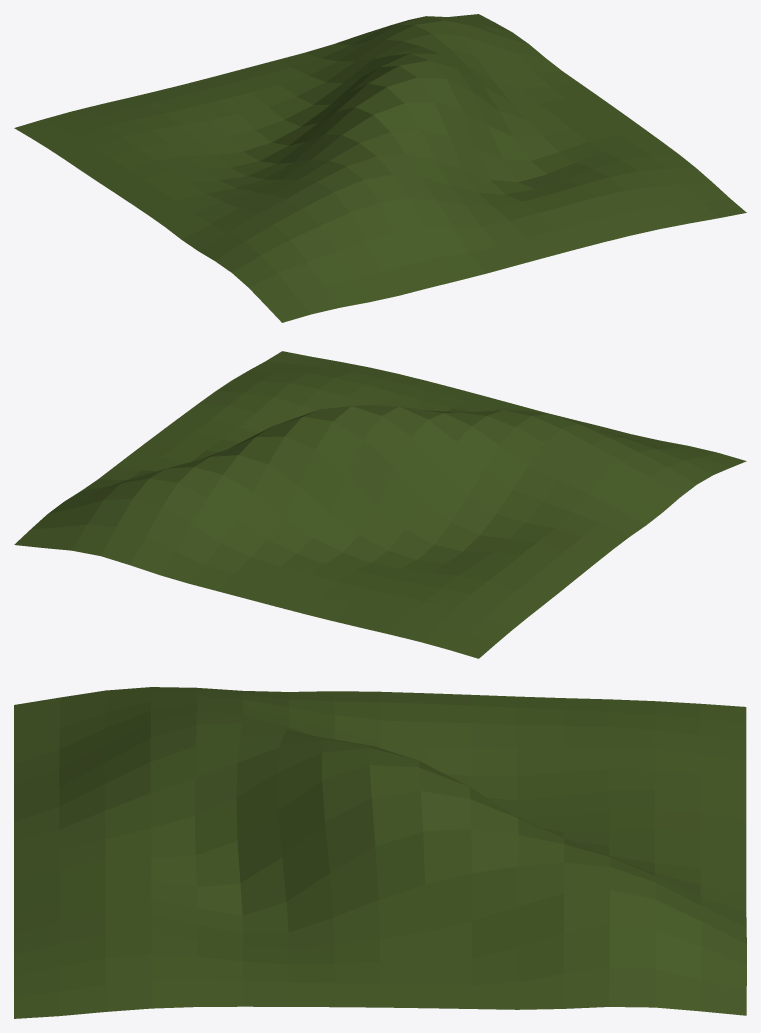
Rendered from Mountain_3.fbx.
3 views of the same model, one above another, from view 1: azimuth 30°, elevation 25°; view 2: azimuth 150°, elevation 25°; view 3: azimuth 270°, elevation 25° (orthographic). The views are drawn at different scales.
Visible parts, largest first — view 1: Mountain_3; view 2: Mountain_3; view 3: Mountain_3.
Part boxes in pixels (bbox=[...]): Mountain_3: bbox=[14, 14, 746, 322]; Mountain_3: bbox=[14, 351, 746, 658]; Mountain_3: bbox=[14, 687, 746, 1018].
Size of the model in its own units: 2500 by 456 by 2500.
